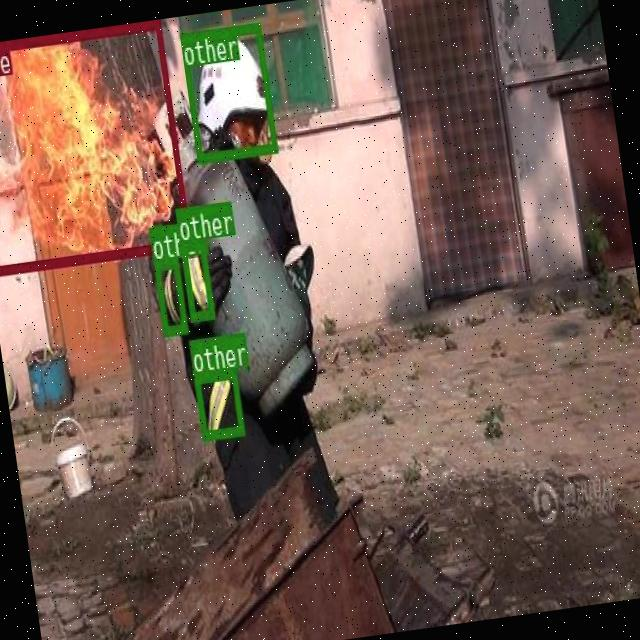fire: (0, 19, 191, 272)
